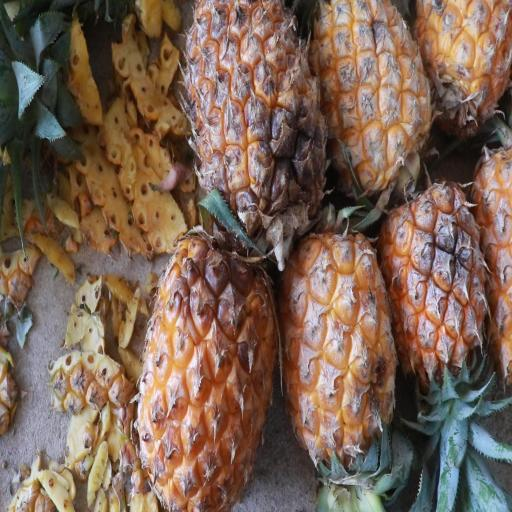Pineapple - v8 v1: (132, 219, 280, 512), (173, 6, 331, 250), (276, 215, 398, 463), (312, 0, 436, 205), (379, 176, 490, 380), (412, 0, 512, 148)
